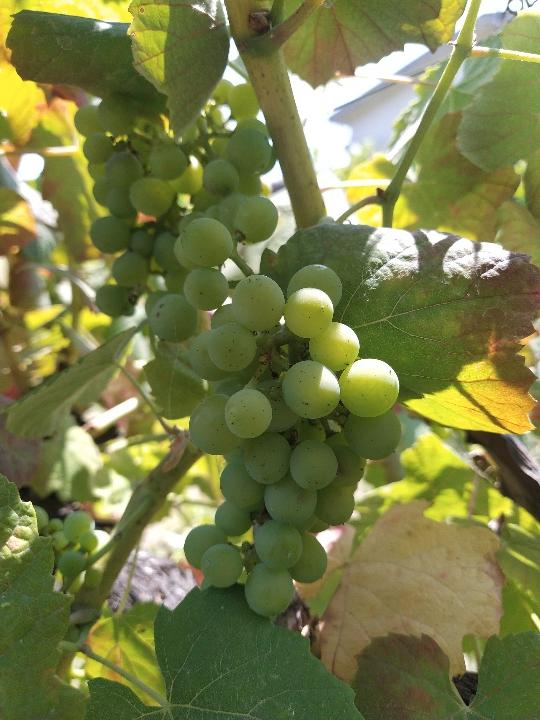grape: (147, 217, 403, 621)
